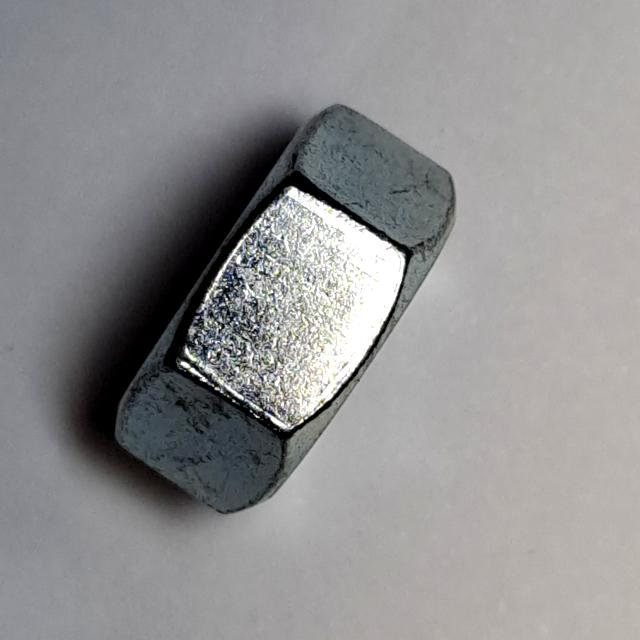Side_Excellent: (82, 81, 500, 542)
